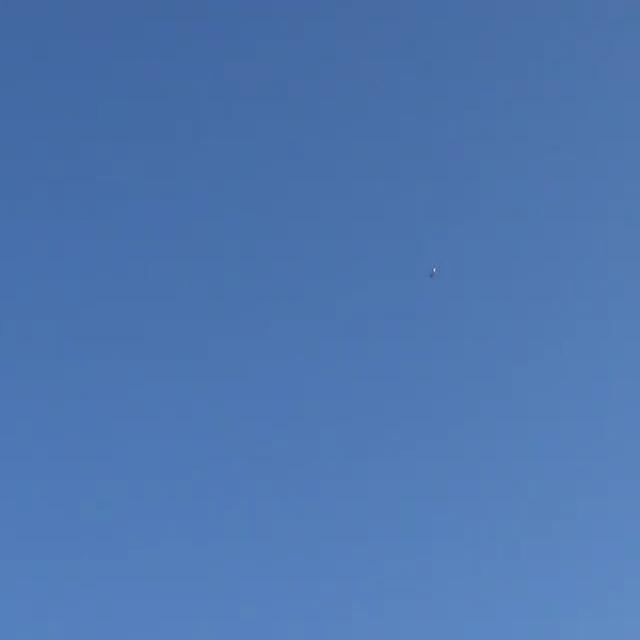AirPlane: (421, 258, 447, 288)
